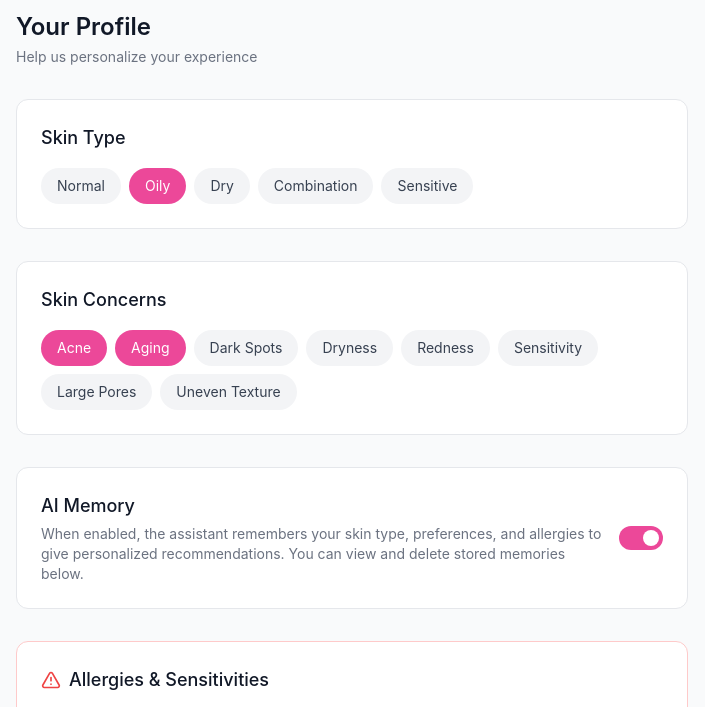
UserProfile › hides Save Changes when change is reverted
Click the button "dry" at {"x": 222, "y": 186}, box x1=194 y1=168 x2=250 y2=204
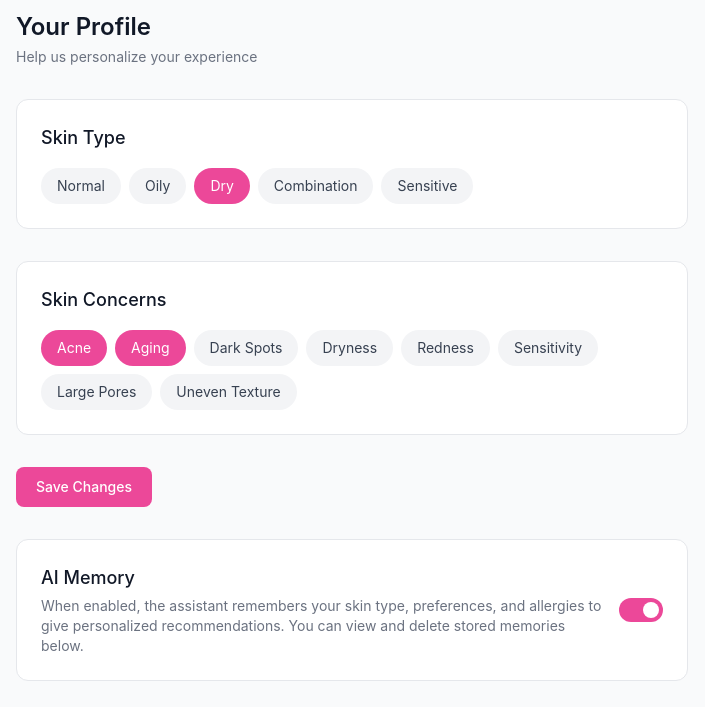
Result: the button "Save Changes" is shown at x1=16 y1=467 x2=152 y2=507
# Revert back to oily
Click the button "oily" at {"x": 158, "y": 186}, box x1=129 y1=168 x2=186 y2=204
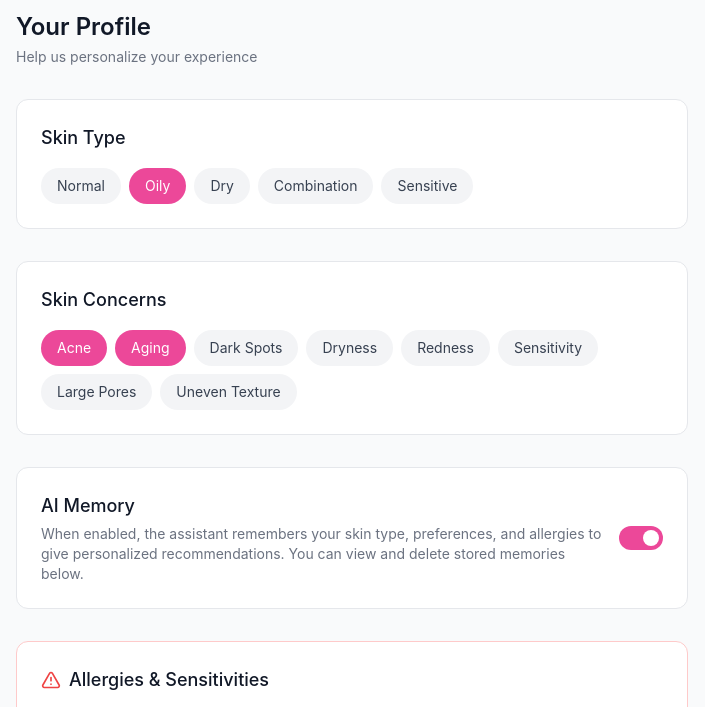
Result: the button "Save Changes" is gone
